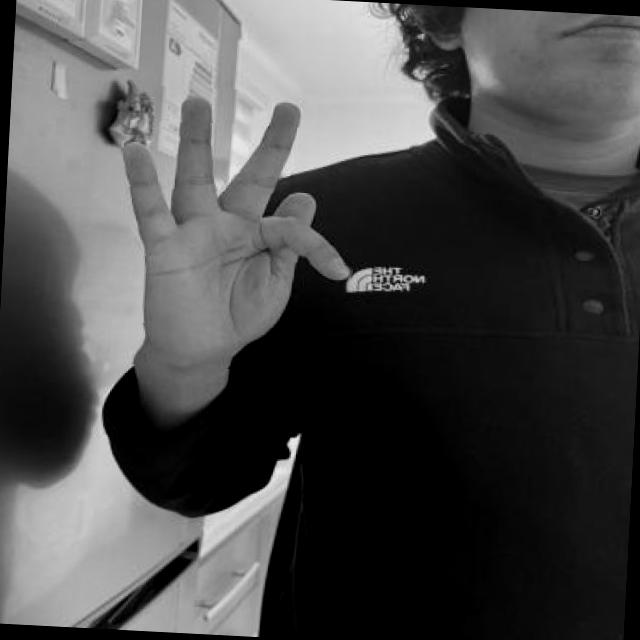F: (108, 84, 362, 376)
